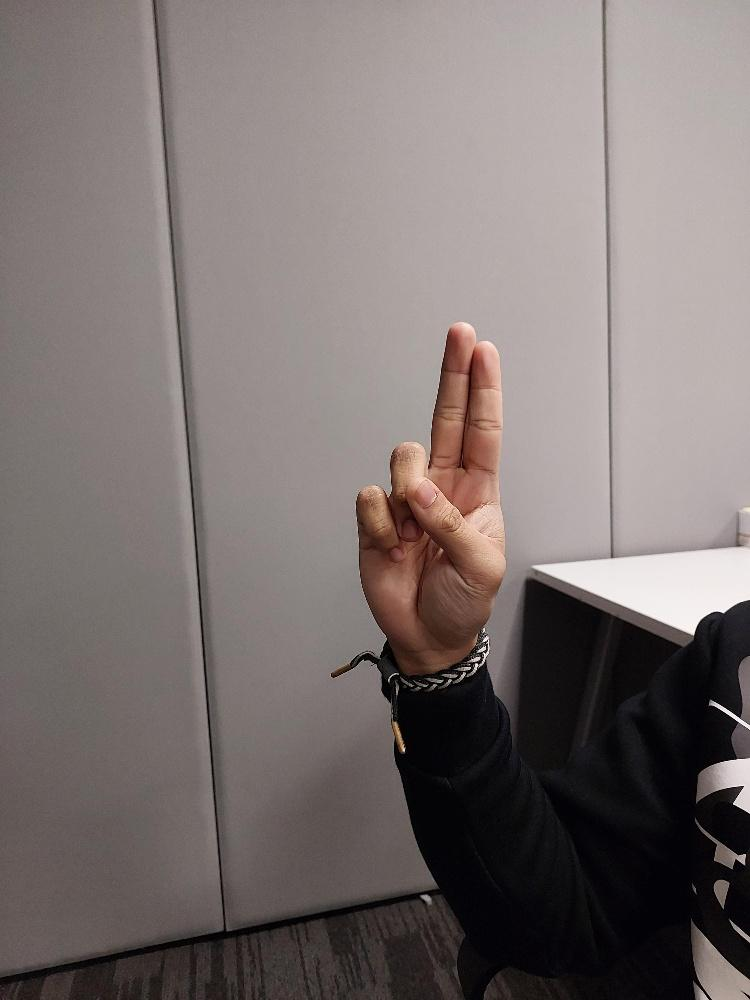u: (353, 318, 507, 652)
